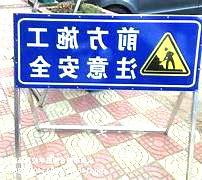sign: (17, 17, 195, 88)
